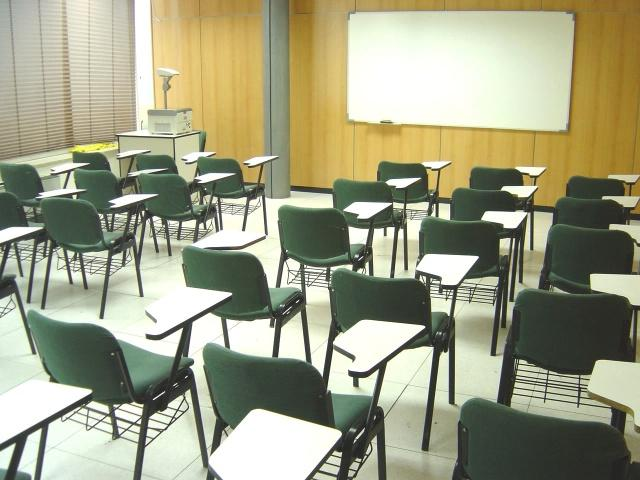Whiteboard: (345, 7, 576, 133)
